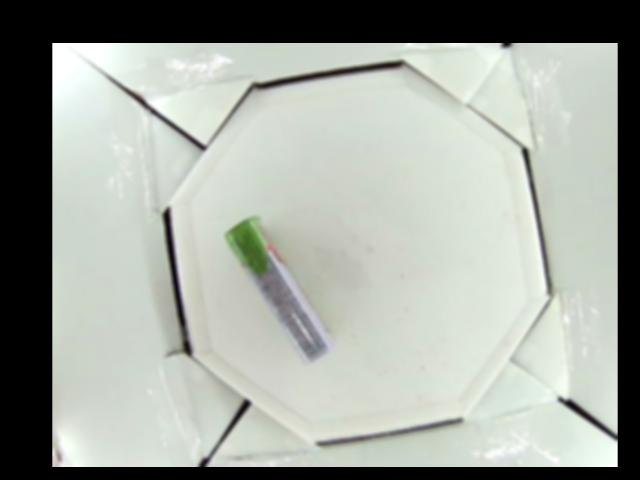Bottle: (226, 217, 338, 363)
